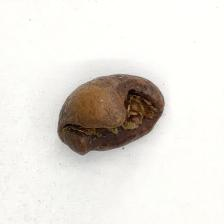NG: (59, 86, 161, 154)
